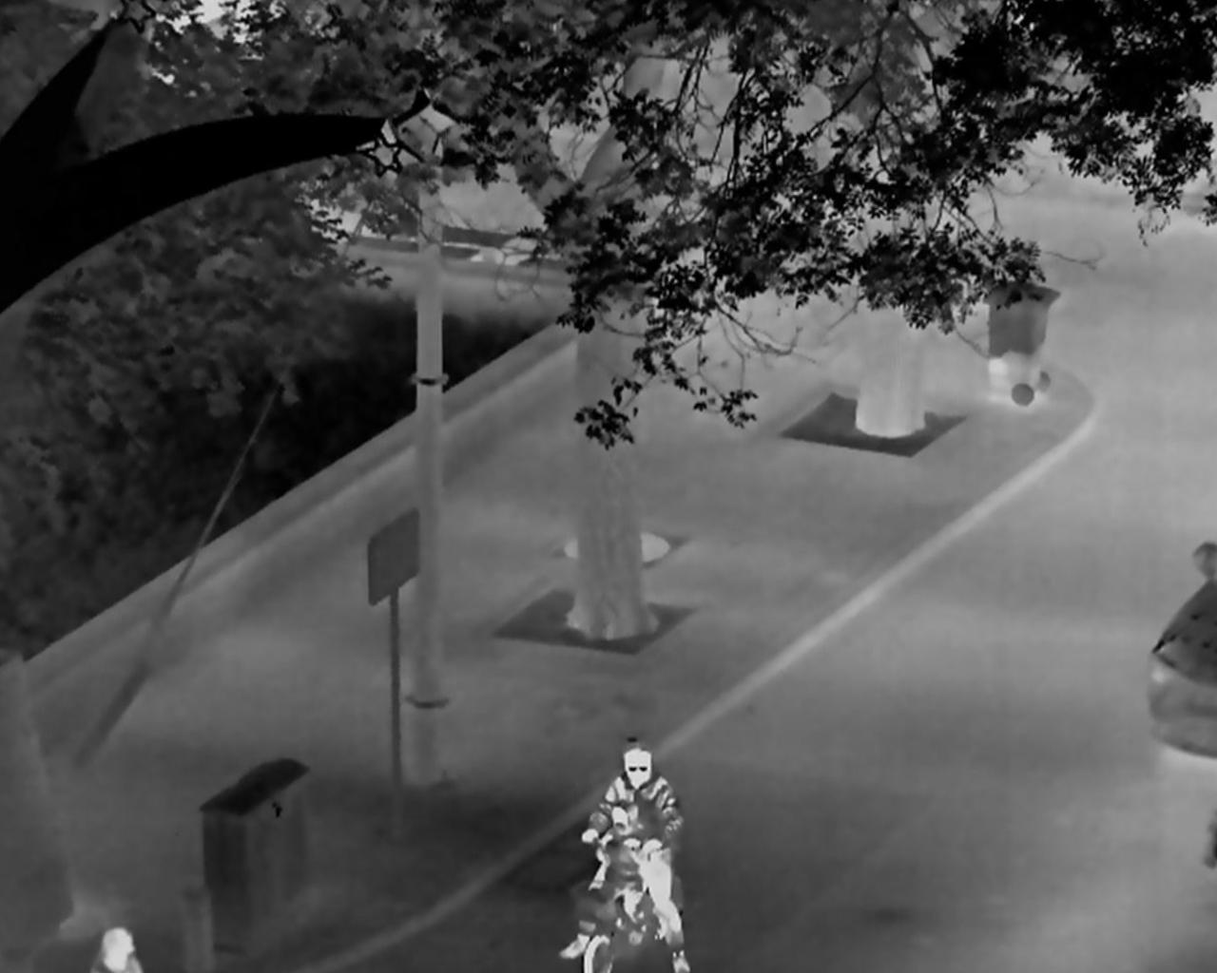person: (559, 736, 688, 973), (595, 800, 650, 945), (87, 925, 145, 973)
